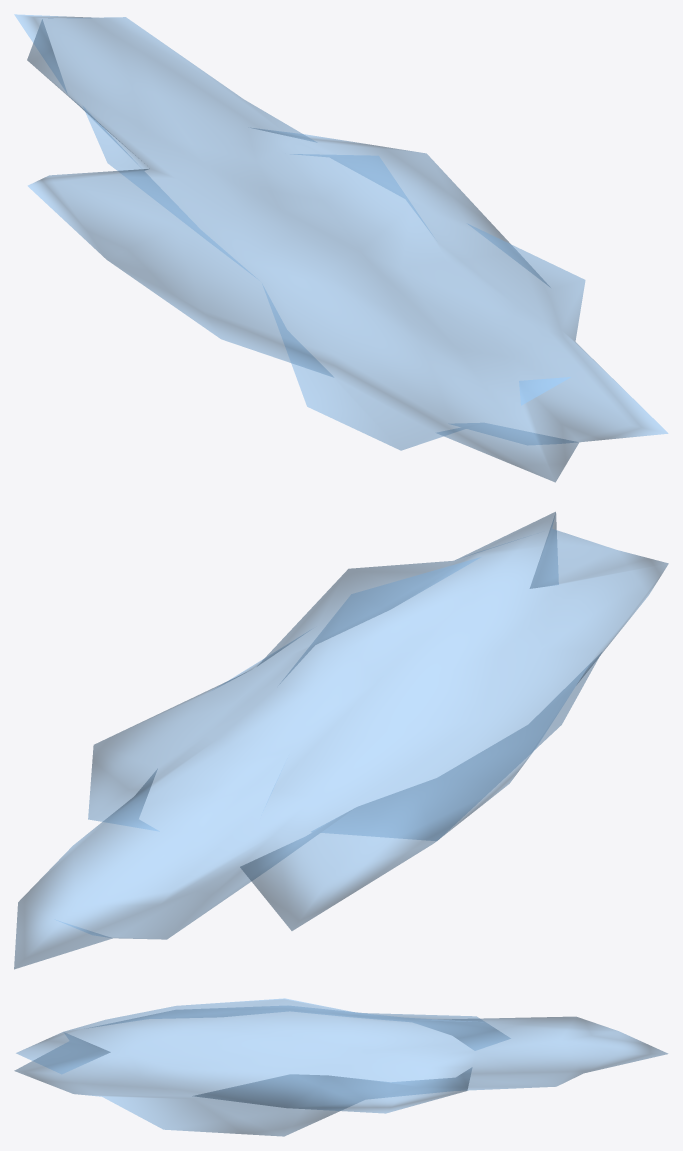
File: thalsey_bs_shield.gltf
3 views of the same model, one above another, from view 1: azimuth 30°, elevation 25°; view 2: azimuth 150°, elevation 25°; view 3: azimuth 270°, elevation 25° (orthographic). The views are drawn at different scales.
Visible parts, largest first — view 1: thalsey_bs.shield; view 2: thalsey_bs.shield; view 3: thalsey_bs.shield.
Boxes of the visible parts, x1=… form: thalsey_bs.shield: x1=14, y1=14, x2=668, y2=482; thalsey_bs.shield: x1=14, y1=512, x2=668, y2=969; thalsey_bs.shield: x1=14, y1=998, x2=667, y2=1136.
Size of the model in its own units: 13.55 by 8.97 by 42.39.
